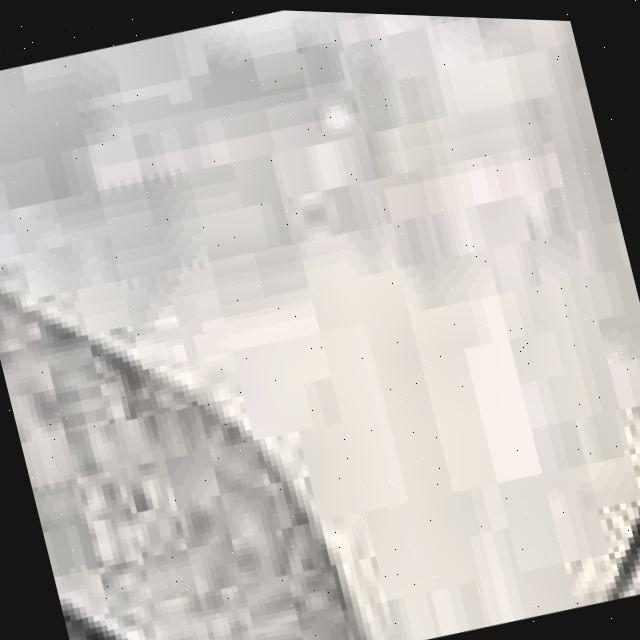paper: (0, 8, 640, 640)
